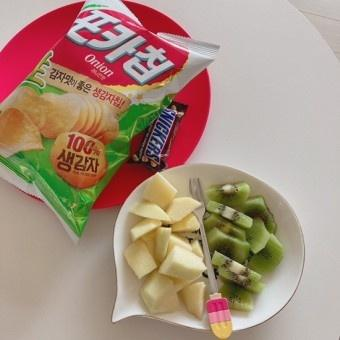snack: (0, 0, 221, 249)
